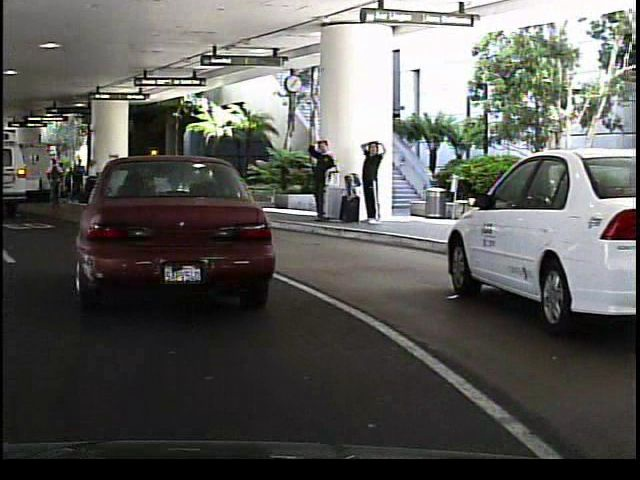person: (303, 134, 335, 221), (355, 135, 384, 227), (336, 150, 358, 219), (189, 152, 212, 203)
